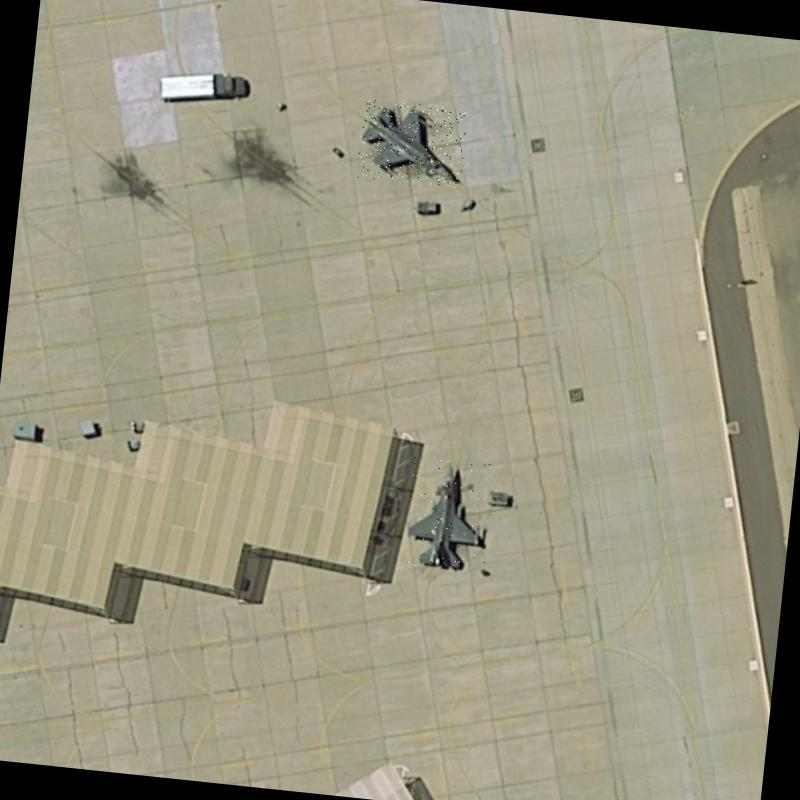A5: (403, 453, 496, 574), (356, 98, 468, 188)
